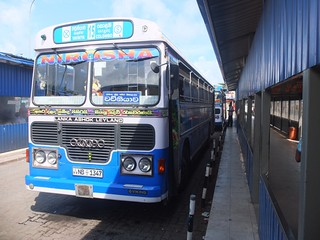bus: (23, 17, 214, 205)
